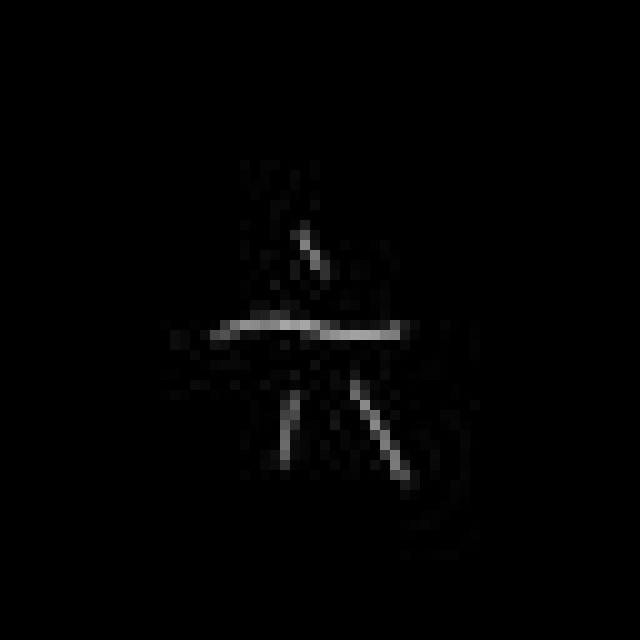6 -six-: (206, 220, 420, 501)
